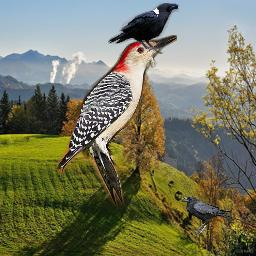Crow: (108, 3, 179, 54), (181, 196, 233, 234)
Woodpecker: (55, 35, 177, 209)
